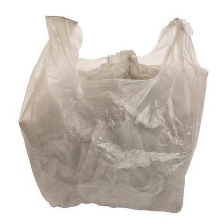plastic_bag: (12, 4, 212, 218)
